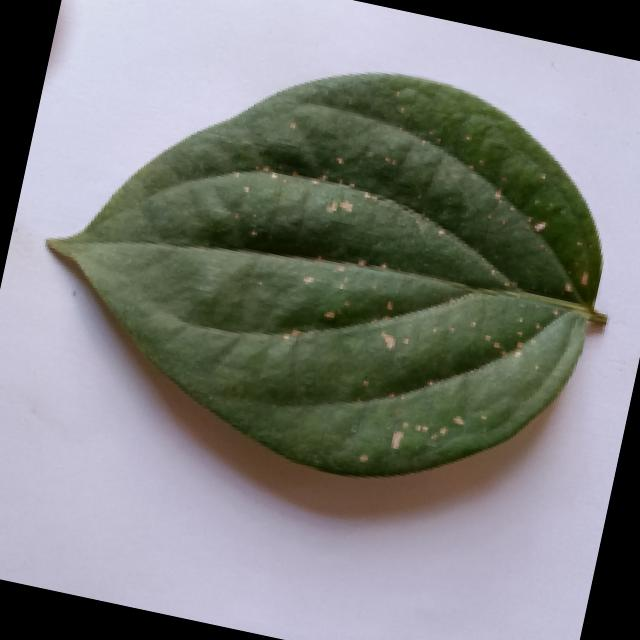pollu-disease: (9, 1, 640, 528)
